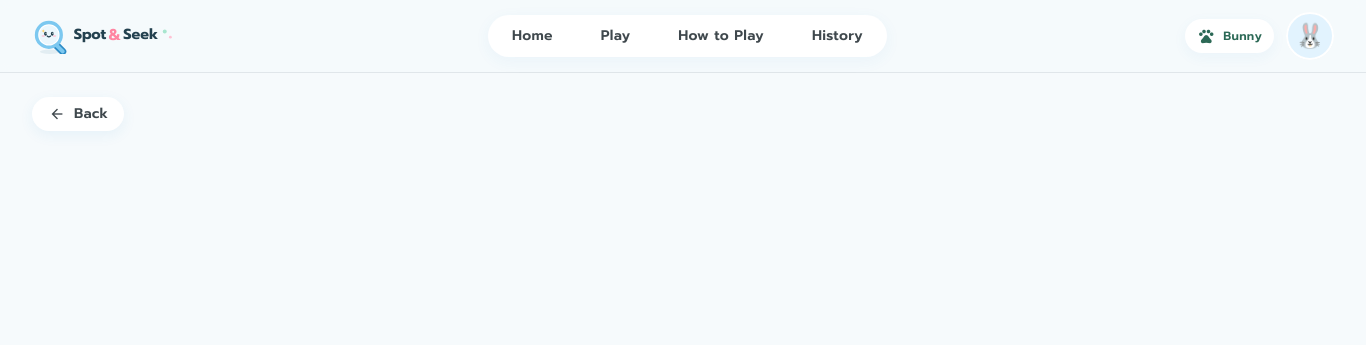
Scenario: responsive layout navigation › keeps the account menu open during pointer handoff, then closes when the pointer leaves
Step 1. Click the button named "Account menu" → (1310, 36), box [1286, 12, 1334, 60]
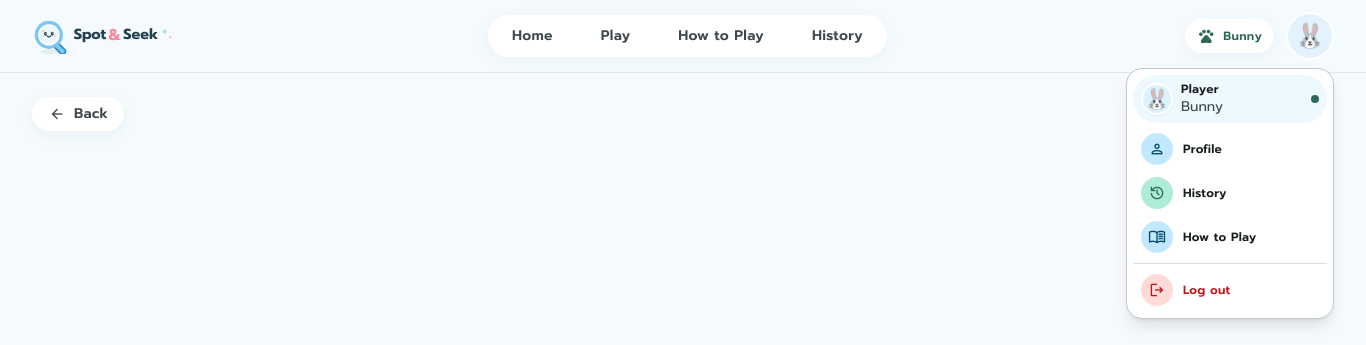
expect the link "Profile" is shown: met, box [1141, 133, 1222, 165]
Step 2. Hover over the element showing "🐰 🐰 Player Bunny Profile History How to Play Log out" → (1310, 36), box [1286, 12, 1334, 60]
expect the link "Profile" is shown: met, box [1141, 133, 1222, 165]
Step 3. Move the pointer off the element showing "🐰 🐰 Player Bunny Profile History How to Play Log out", box [1286, 12, 1334, 60]
Wait 220 ms
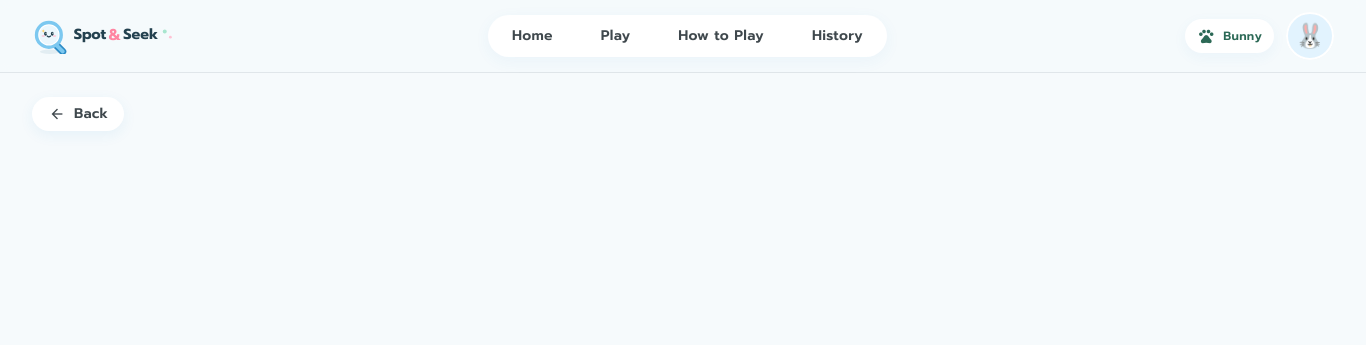
expect the link "Profile" is gone: met
